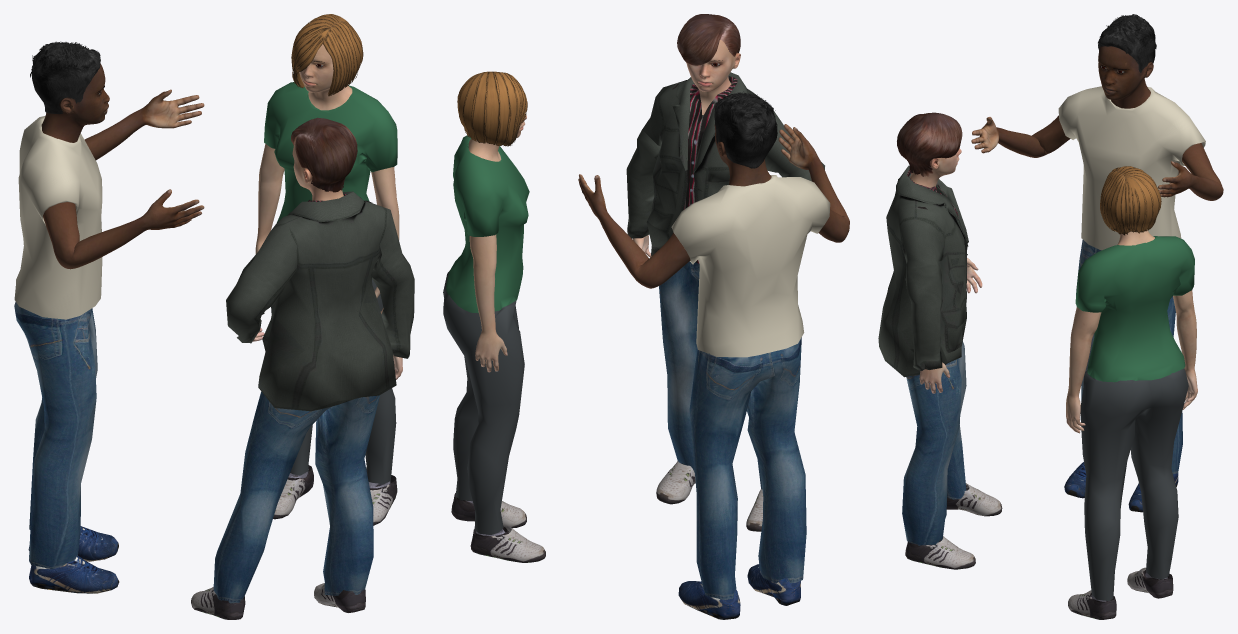
File: micah-taylor-and-quinn-3d-person-three-colleagues-talking.glb
3 views of the same model, side by side, from view 1: azimuth 30°, elevation 25°; view 2: azimuth 150°, elevation 25°; view 3: azimuth 270°, elevation 25° (orthographic). The views are drawn at different scales.
Visible parts, largest first — view 1: male_casualsuit05, male_casualsuit04, female_casualsuit01, Micah | anatomical body, Taylor | anatomical body, bob02, short03, short01, shoes06, shoes05.001, shoes05, Quinn | anatomical body; view 2: male_casualsuit04, female_casualsuit01, male_casualsuit05, Micah | anatomical body, bob02, short01, Taylor | anatomical body, shoes05, shoes06, short03, Quinn | anatomical body, shoes05.001; view 3: female_casualsuit01, male_casualsuit05, male_casualsuit04, Micah | anatomical body, Taylor | anatomical body, bob02, short03, shoes05.001, short01, shoes05, Quinn | anatomical body, shoes06.
Boxes of the visible parts, <box> form: male_casualsuit05: <box>213,191,414,603</box>; male_casualsuit04: <box>14,116,102,569</box>; female_casualsuit01: <box>264,82,397,483</box>; Micah | anatomical body: <box>41,63,204,269</box>; Taylor | anatomical body: <box>255,44,399,313</box>; bob02: <box>291,14,363,96</box>; short03: <box>291,117,357,192</box>; short01: <box>30,41,100,113</box>; shoes06: <box>28,526,119,593</box>; shoes05.001: <box>191,583,365,619</box>; shoes05: <box>273,465,397,525</box>; Quinn | anatomical body: <box>253,137,402,379</box>; male_casualsuit04: <box>671,175,830,599</box>; female_casualsuit01: <box>443,135,529,534</box>; male_casualsuit05: <box>626,72,824,488</box>; Micah | anatomical body: <box>578,124,849,288</box>; bob02: <box>457,71,527,146</box>; short01: <box>714,91,777,168</box>; Taylor | anatomical body: <box>468,115,526,372</box>; shoes05: <box>451,493,545,562</box>; shoes06: <box>678,564,800,619</box>; short03: <box>677,14,740,65</box>; Quinn | anatomical body: <box>633,40,740,257</box>; shoes05.001: <box>656,461,763,531</box>; female_casualsuit01: <box>1075,236,1194,601</box>; male_casualsuit05: <box>878,165,968,545</box>; male_casualsuit04: <box>1058,86,1205,474</box>; Micah | anatomical body: <box>971,46,1223,200</box>; Taylor | anatomical body: <box>1066,230,1197,433</box>; bob02: <box>1100,166,1161,235</box>; short03: <box>897,112,962,176</box>; shoes05.001: <box>905,483,1002,569</box>; short01: <box>1098,14,1156,72</box>; shoes05: <box>1068,567,1173,619</box>; Quinn | anatomical body: <box>910,148,982,393</box>; shoes06: <box>1064,462,1178,512</box>.
Size of the model in its own units: 1.36 by 1.83 by 1.21.
Materials: 27 (27 with a texture image).
